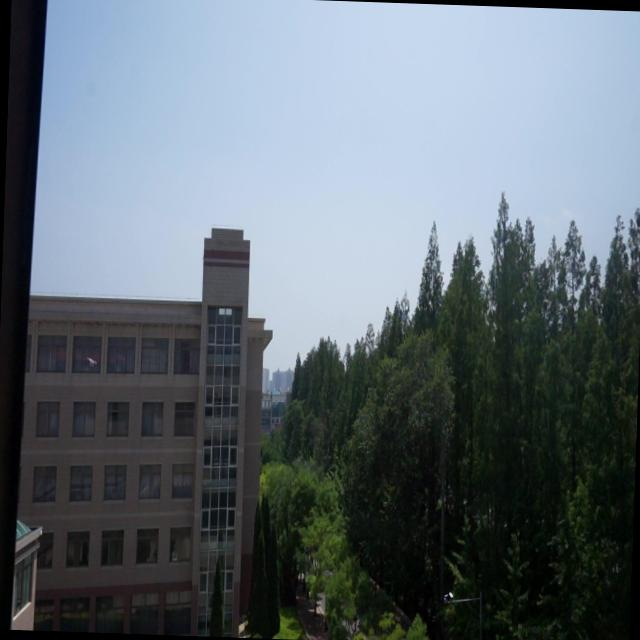drone: (85, 352, 99, 369)
